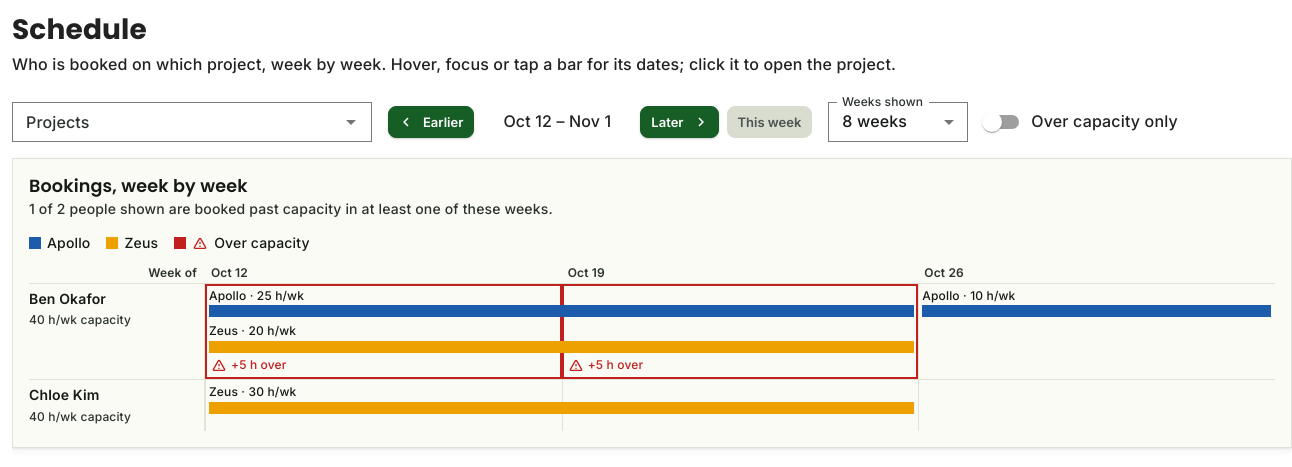
Test case: SchedulePage › keeps a project's colour when a filter or page leaves only other projects in view
The image size is (1292, 467).
Click the switch labelled "Over capacity only": click(1080, 122) top-left (982, 111), bottom-right (1178, 132)
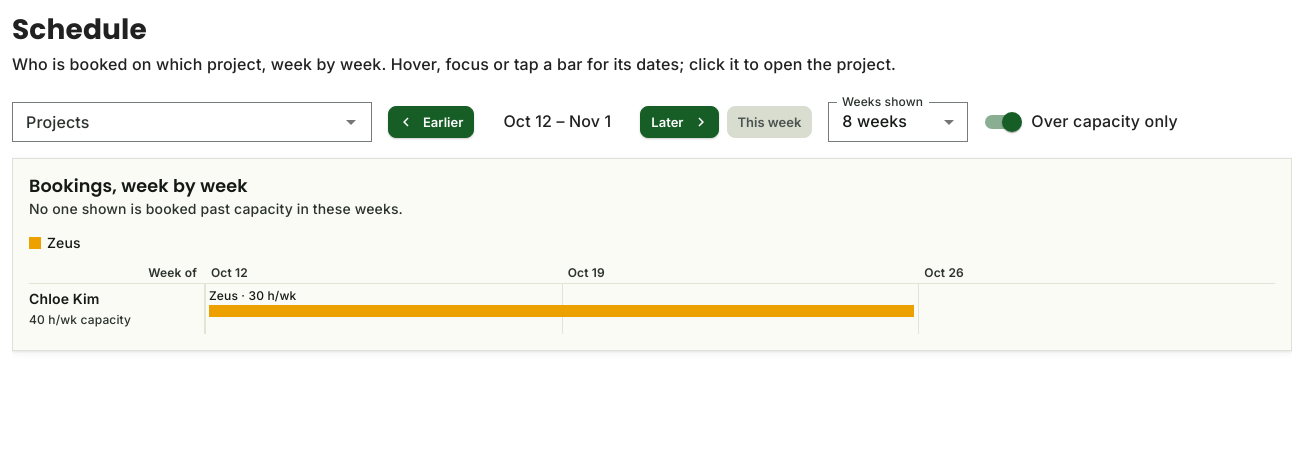
Expected: the text "Ben Okafor" is gone
